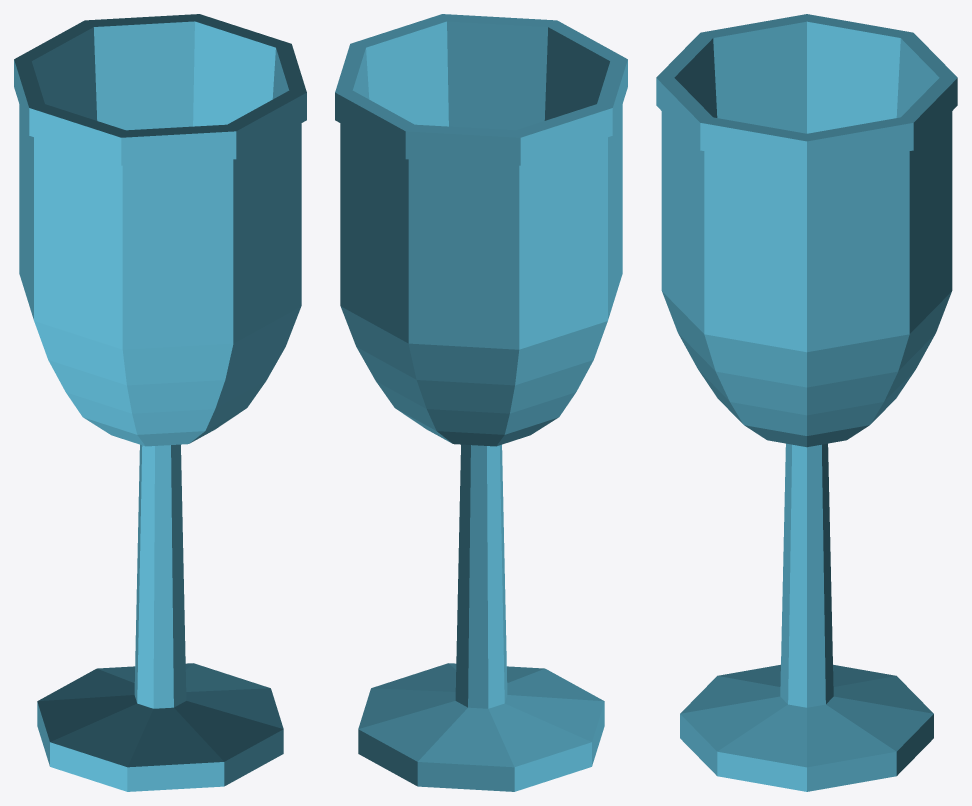
The model's file is Cup 8.fbx.
3 views of the same model, side by side, from view 1: azimuth 30°, elevation 25°; view 2: azimuth 150°, elevation 25°; view 3: azimuth 270°, elevation 25° (orthographic).
Parts seen in each view (by area): view 1: Node 0; view 2: Node 0; view 3: Node 0.
Part boxes in pixels (bbox=[...]): Node 0: bbox=[14, 14, 306, 791]; Node 0: bbox=[335, 14, 627, 791]; Node 0: bbox=[656, 14, 957, 791].
Size of the model in its own units: 0.1252 by 0.3025 by 0.1252.
